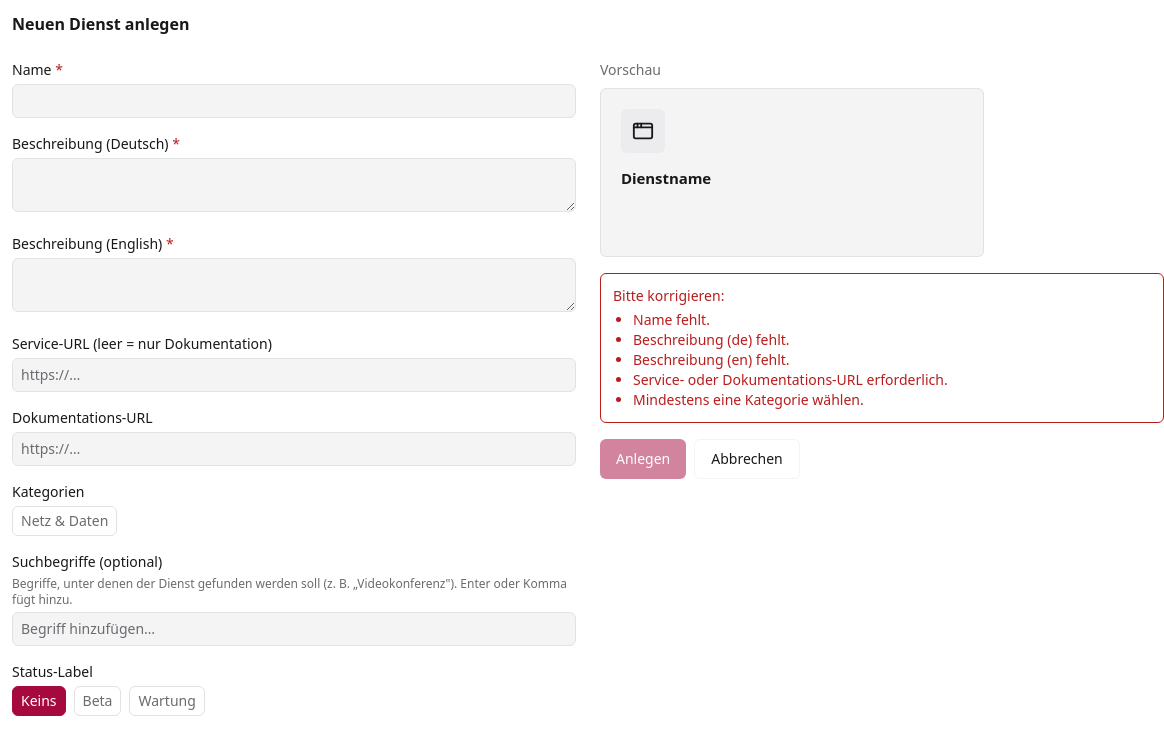
ServiceForm › rejects a non-http URL
The width and height of the screenshot is (1164, 732).
Type "X" into the field labelled "Name *" at [294, 101], box [12, 84, 576, 118]
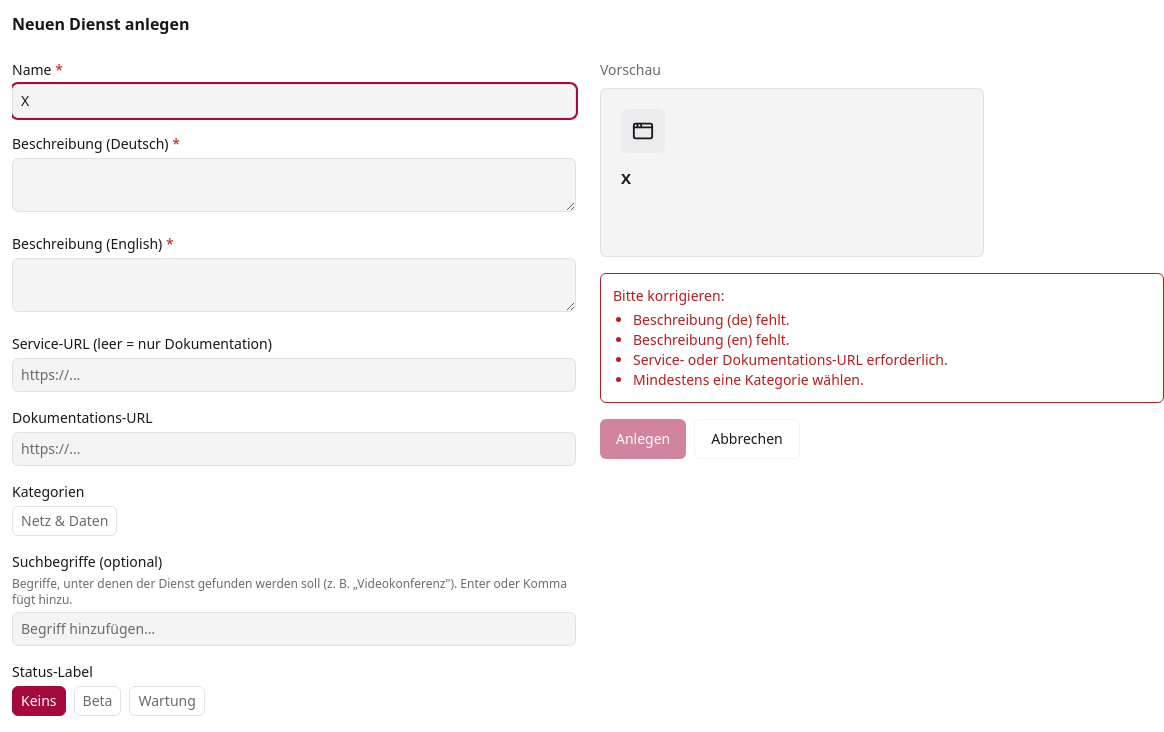
Type "Y" into the text box labelled "Beschreibung (Deutsch) *" at [294, 185], box [12, 158, 576, 212]
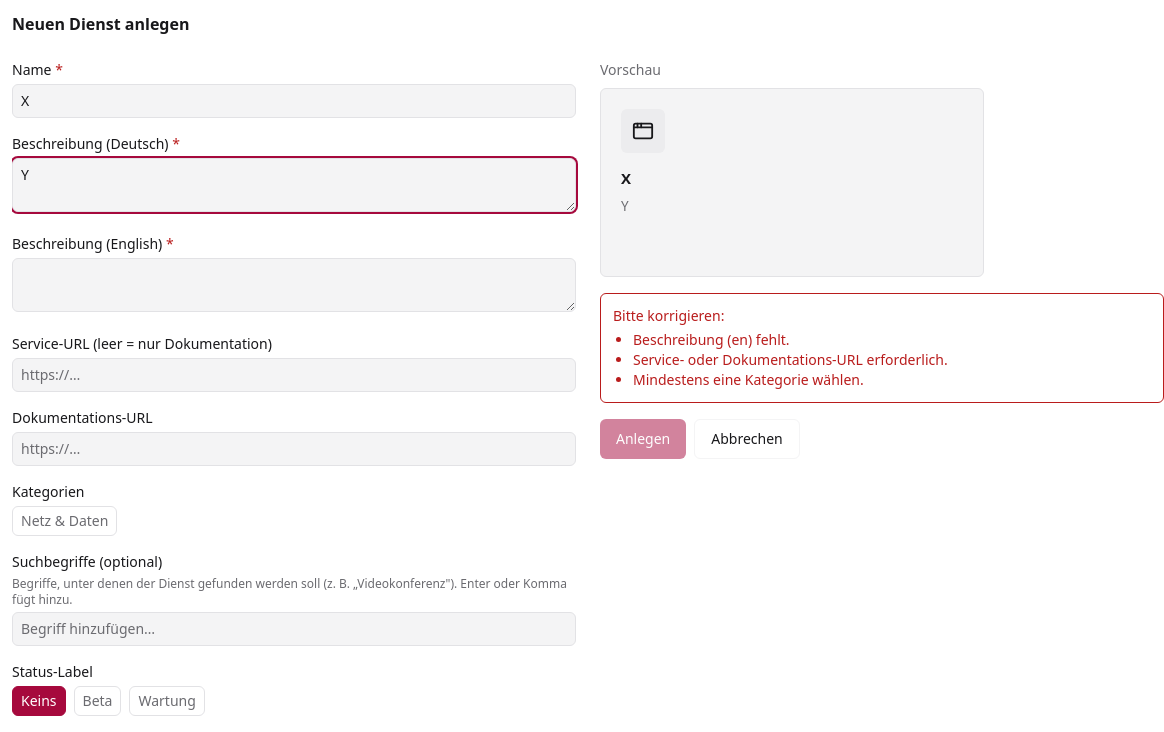
Click the checkbox "Netz & Daten" at [65, 521], box [12, 506, 117, 536]
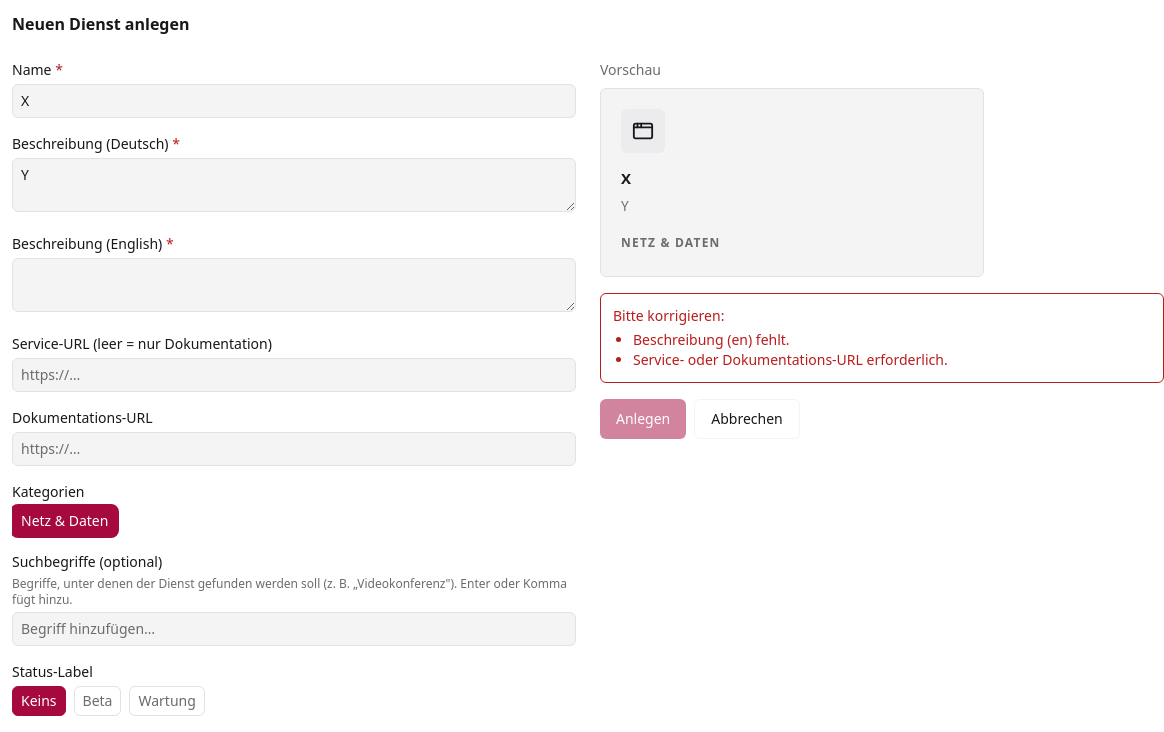
Type "ftp://nope" into the field labelled "Service-URL (leer = nur Dokumentation)" at [294, 375], box [12, 358, 576, 392]
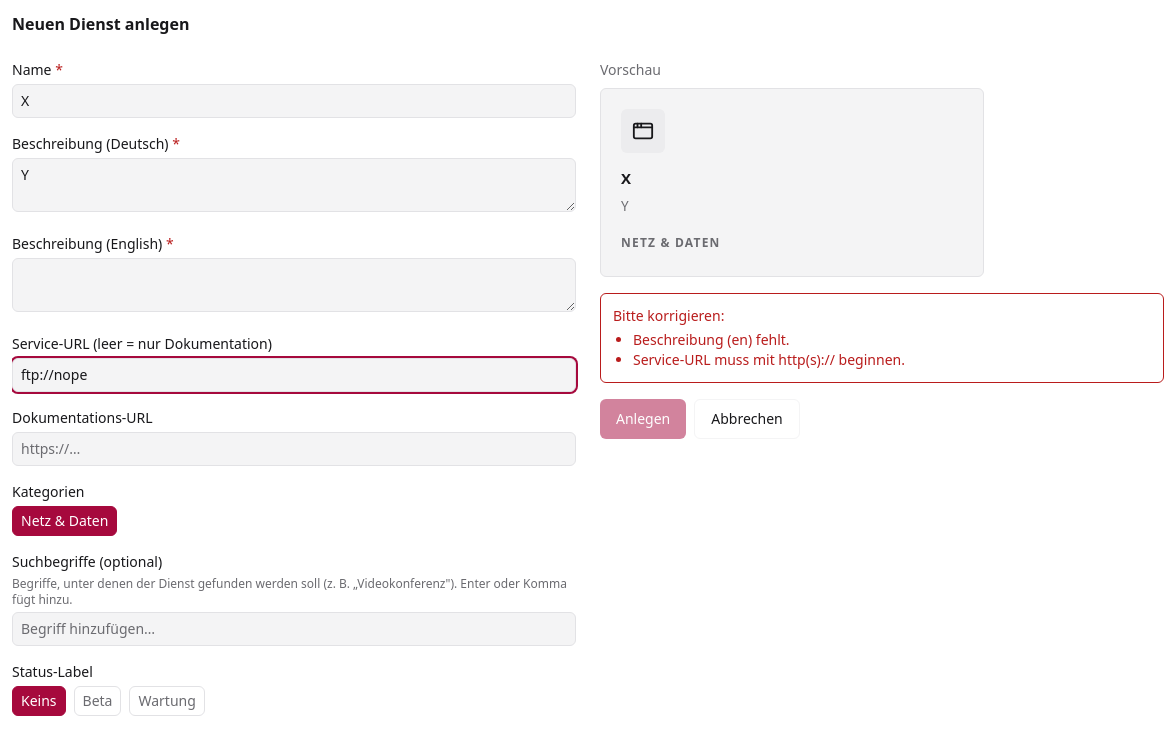
Expected: the button "Anlegen" is disabled, [600, 399, 686, 439]
Result: the list item "Service-URL muss mit http(s):// beginnen." is shown at [633, 350, 905, 369]
